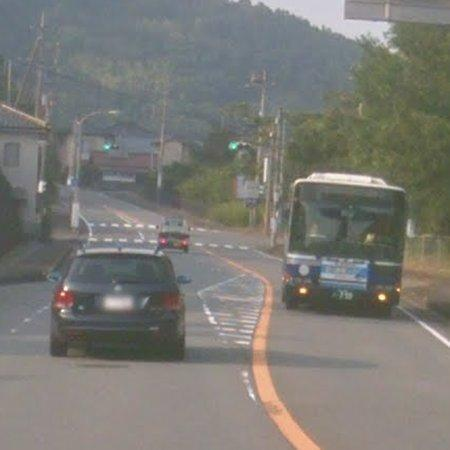buses: (283, 173, 408, 310)
